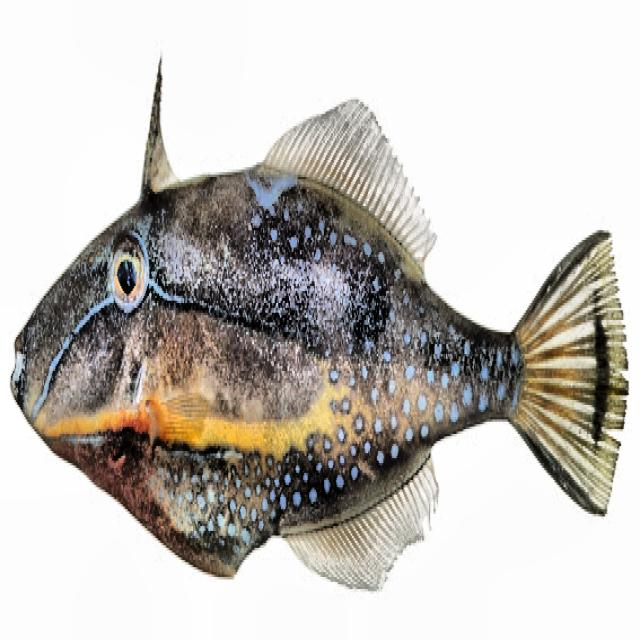fish: (9, 51, 630, 594)
